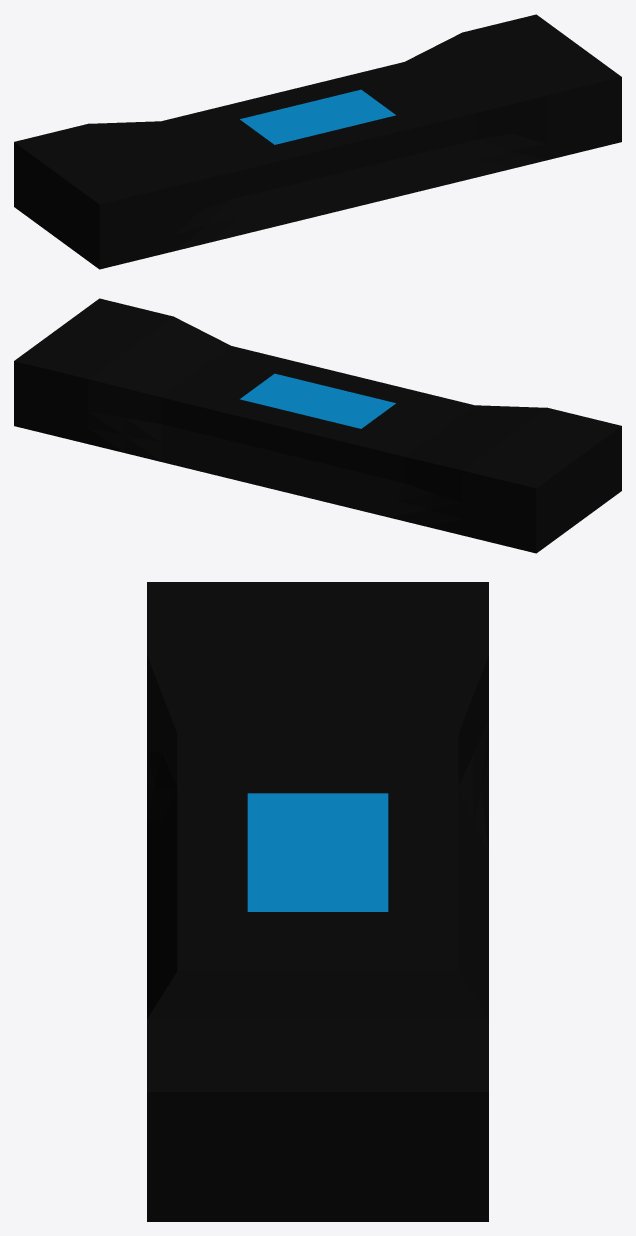
File: Pickup.obj
3 renders of one model, top to bottom at view 1: azimuth 30°, elevation 25°; view 2: azimuth 150°, elevation 25°; view 3: azimuth 270°, elevation 25°, orthographic. The views are drawn at different scales.
Visible parts, largest first — view 1: Cube; view 2: Cube; view 3: Cube.
Part boxes in pixels (x1,y1,x2,y2): Cube: [14, 14, 621, 269]; Cube: [14, 298, 621, 553]; Cube: [147, 582, 488, 1221].
Bounding box in the file's own units: 8.59 × 1.02 × 2.43.
